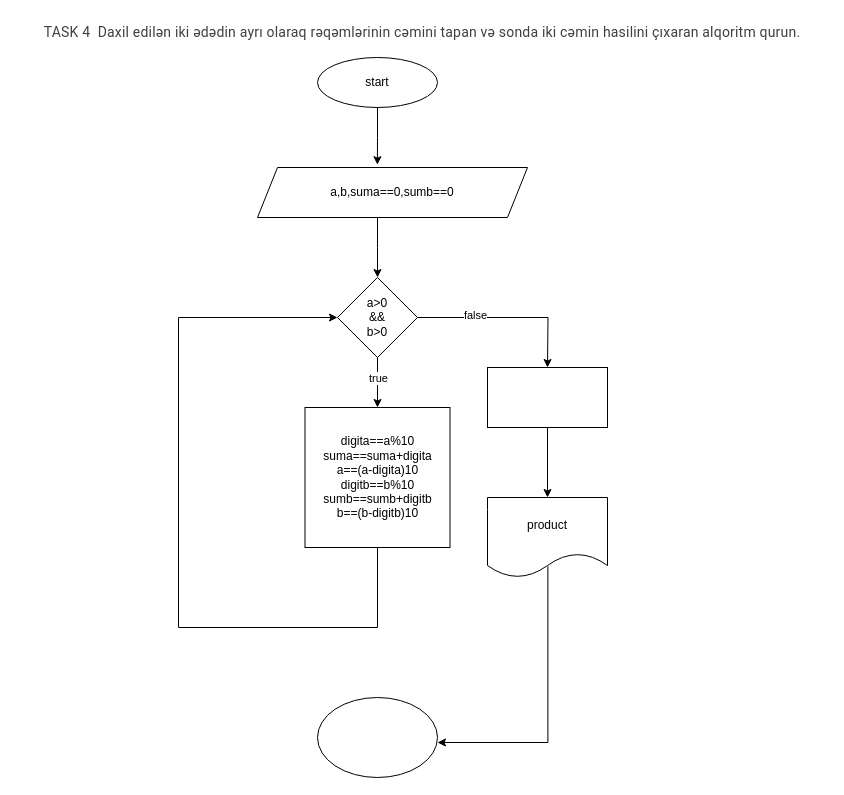
This 844x795 diagram has some shape labels left out. Here are the shapes that lost their labels. From the top down, the centre of each, then its label:
point (547, 397): product==suma*sumb
point (377, 737): end
